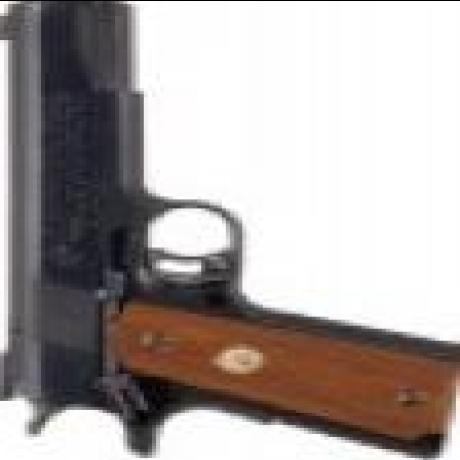weapon: (3, 2, 460, 460)
